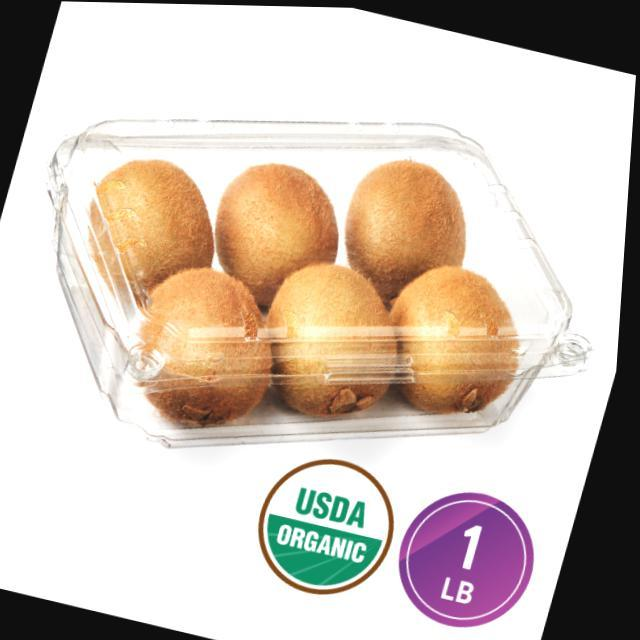kiwi: (113, 252, 304, 441), (243, 249, 429, 437), (63, 144, 244, 326), (372, 250, 547, 432), (194, 149, 364, 319), (326, 147, 492, 312)
